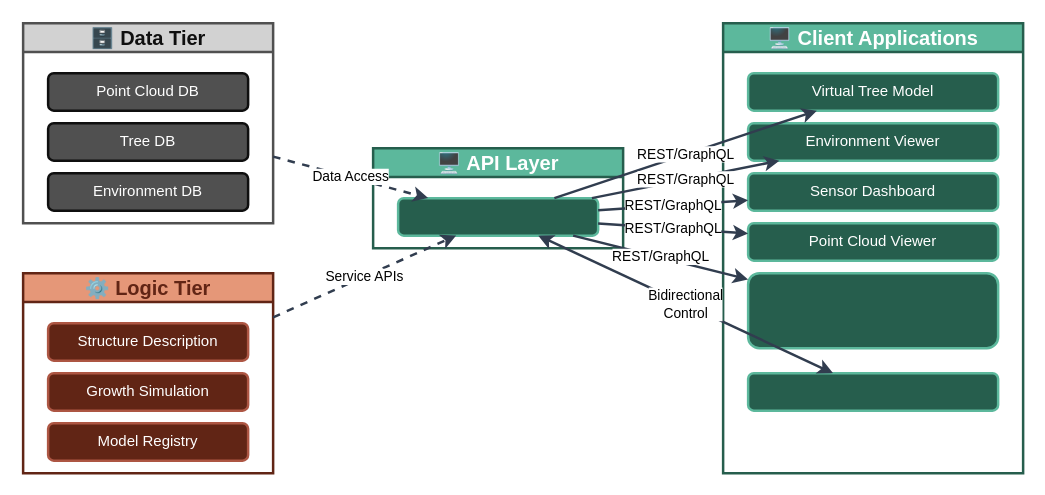
This 1045x495 diagram has some shape labels left out. The centre of each missing label's shape, as x and y in pixels:
API Gateway: the point at 497,216
Interaction Tools: the point at 872,391
Web Interface - Shiny App - Simplified Digital Twin - Point Cloud Viewer: the point at 872,310
